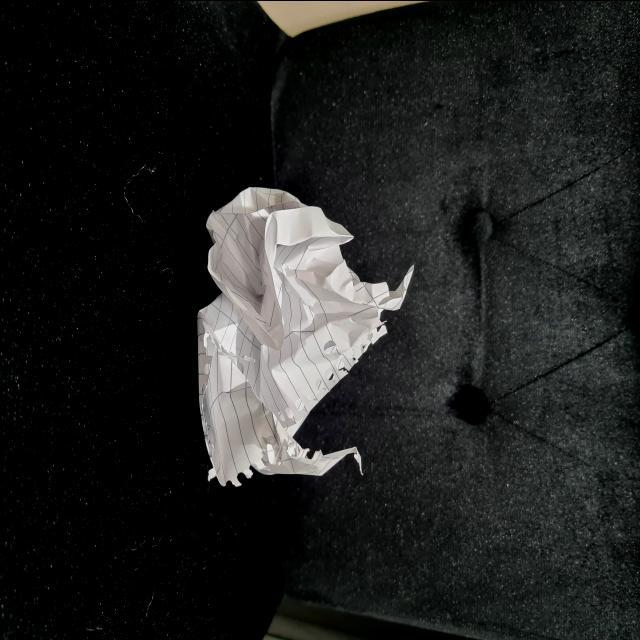Paper: (138, 158, 422, 502)
